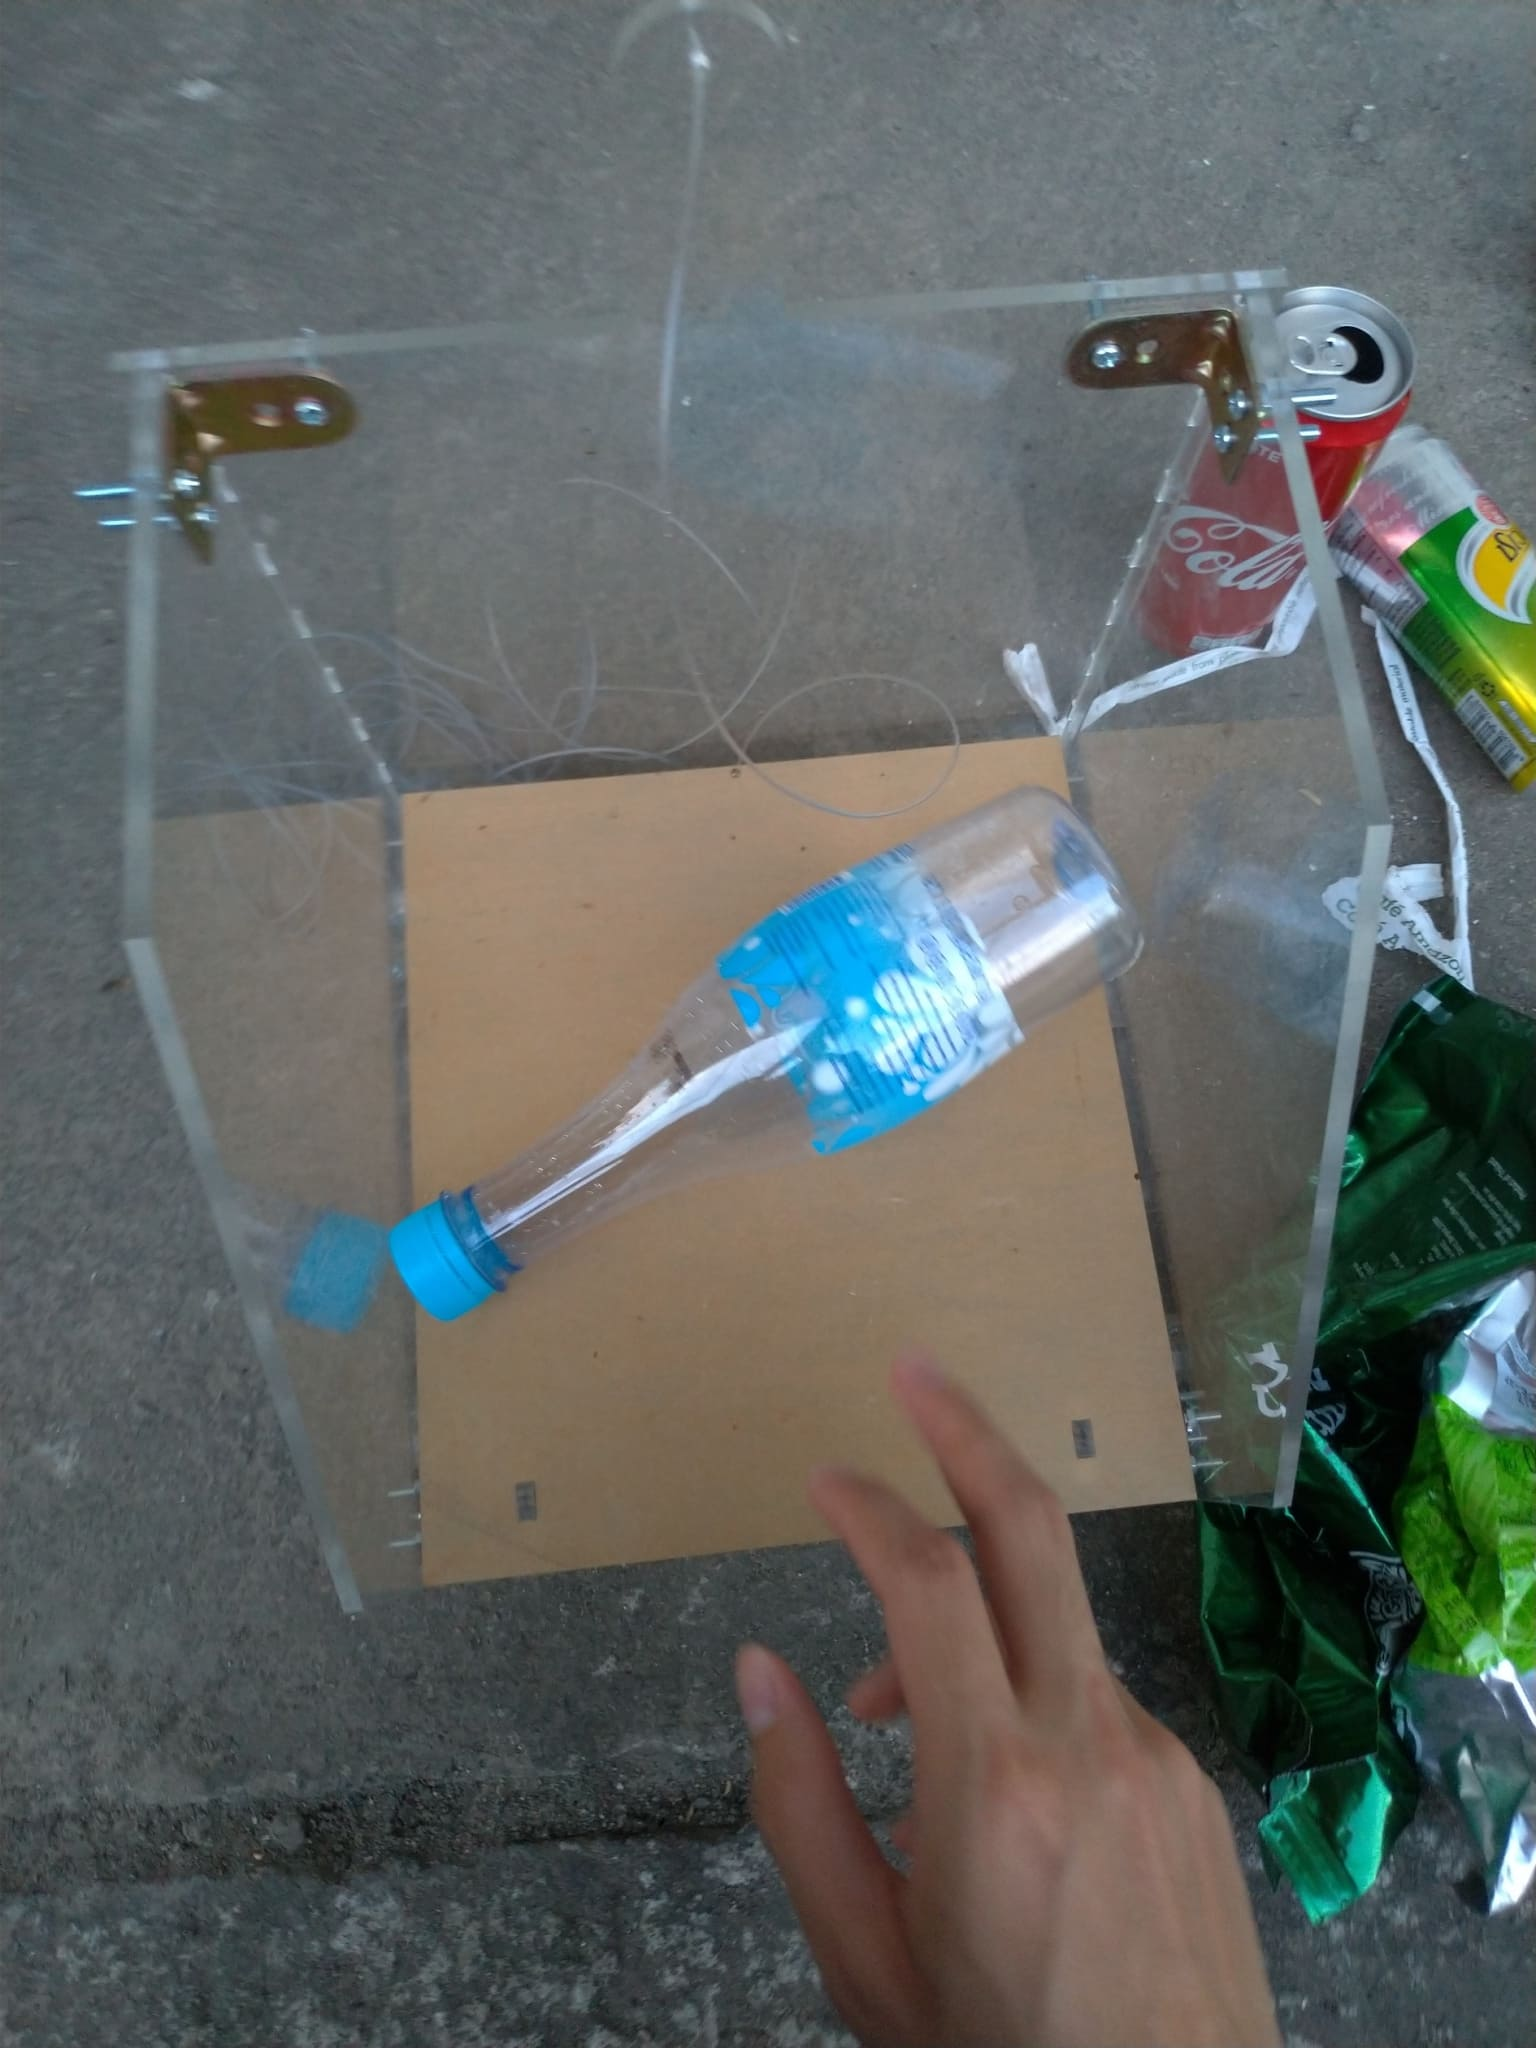AlCan: (1154, 284, 1412, 655), (1334, 416, 1536, 793)
Others: (1171, 990, 1536, 1922), (1376, 1268, 1536, 1900), (1317, 603, 1476, 993), (992, 568, 1325, 722)
PlasticBottle: (390, 787, 1142, 1313)
